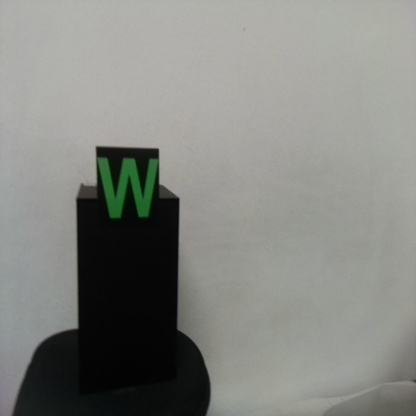id_12: (95, 146, 162, 232)
